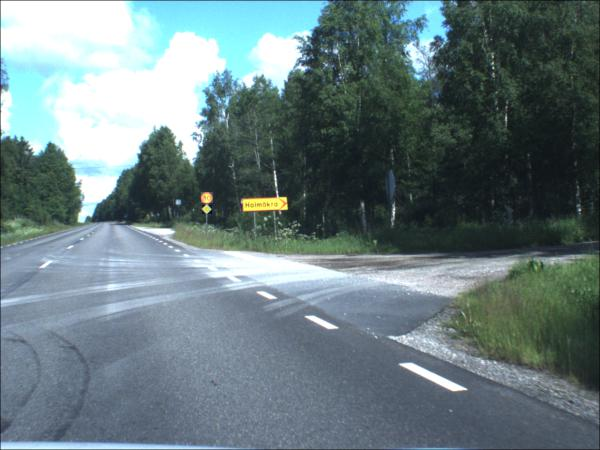80_SIGN: (202, 193, 215, 205)
PRIORITY_ROAD: (203, 206, 214, 216)
